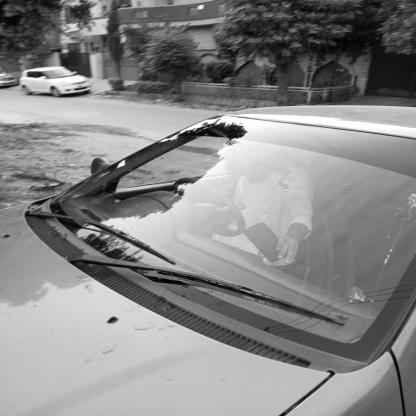no-seatbelt: (224, 146, 296, 238)
